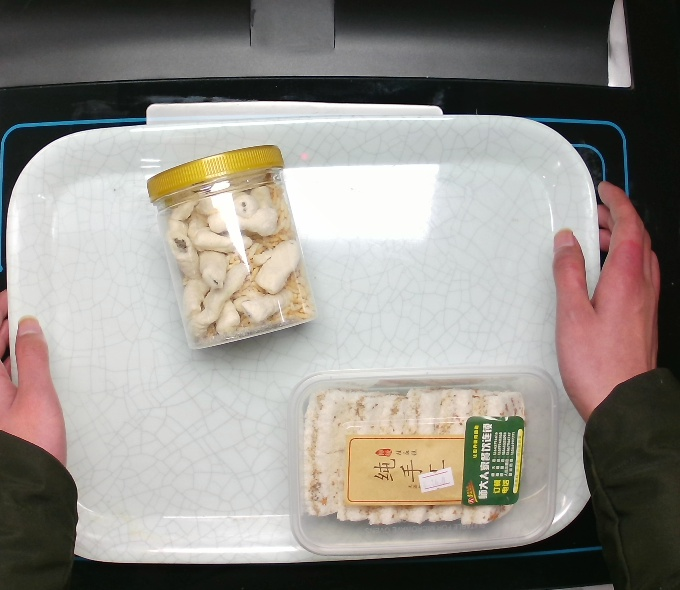wcq-GuiHuaGao: (281, 362, 565, 562)
wcq-MaiYaTang: (141, 142, 322, 356)
